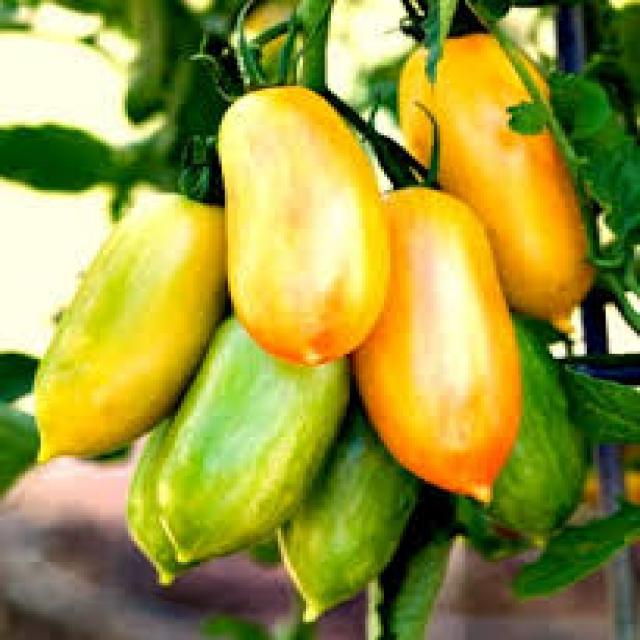organic waste: (394, 31, 596, 333), (344, 185, 515, 507), (31, 188, 222, 460), (212, 76, 387, 362), (150, 312, 346, 562), (274, 396, 424, 619), (443, 307, 581, 541), (122, 408, 203, 583)
